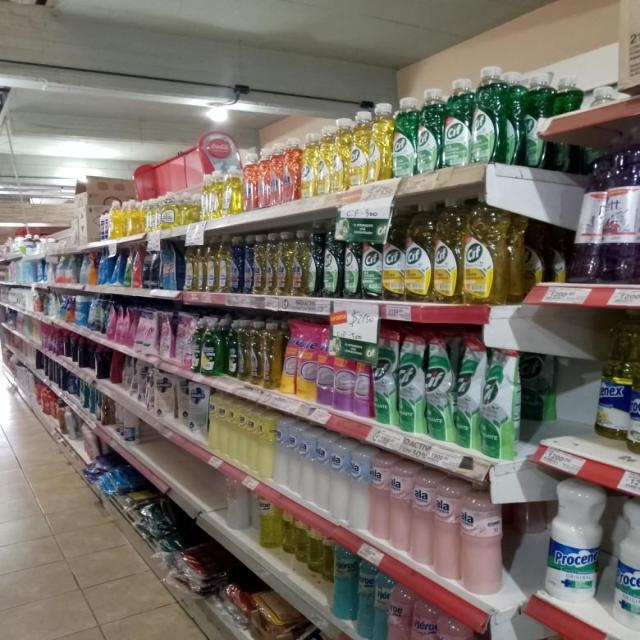ala_conc_amarillo: (293, 229, 308, 297), (277, 231, 292, 296), (264, 233, 276, 295), (254, 234, 264, 295)
ala_crem_amarillo: (259, 410, 274, 480), (208, 392, 221, 454), (248, 406, 259, 475), (238, 402, 249, 468), (218, 394, 229, 458), (229, 398, 239, 462)
ala_crem_blanco: (350, 445, 370, 532), (330, 437, 349, 525), (274, 417, 292, 488), (300, 428, 316, 506), (316, 433, 330, 513), (288, 419, 300, 498)
ala_crem_rosado: (461, 487, 506, 597), (434, 477, 460, 582), (412, 469, 434, 570), (390, 457, 412, 553), (370, 452, 390, 542)
cif_conc_bot_amarilla: (463, 198, 507, 305), (433, 198, 461, 304), (405, 201, 432, 302), (383, 205, 404, 301), (369, 101, 391, 181), (349, 108, 369, 187), (332, 117, 348, 193), (301, 132, 315, 198)
cif_conc_botella_verde: (472, 66, 500, 165), (442, 76, 470, 169), (417, 87, 441, 174), (504, 68, 524, 166), (392, 96, 416, 177), (362, 212, 381, 300), (324, 219, 342, 298), (343, 217, 360, 299)
cif_conc_sachet_verde: (426, 333, 452, 442), (398, 332, 424, 434), (373, 329, 397, 427)
heroe: (388, 581, 409, 640), (410, 597, 437, 640), (373, 565, 388, 640), (439, 615, 473, 640)
magistral_con_amarillo: (206, 236, 217, 293), (218, 235, 228, 293), (197, 236, 205, 292)
magistral_con_azul: (230, 235, 243, 294), (243, 235, 254, 294)
